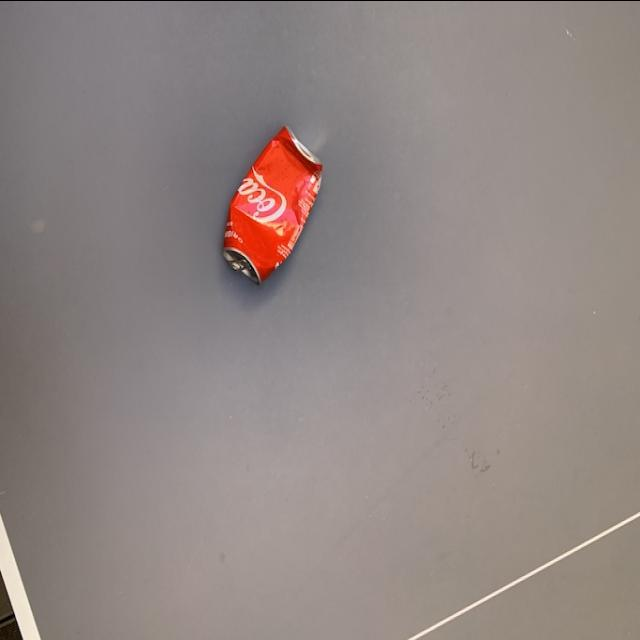litter: (216, 124, 332, 292)
